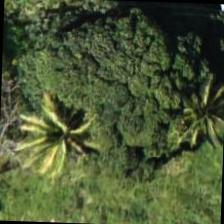Kelapa_Sawit: (59, 116, 152, 208), (142, 75, 223, 170)
